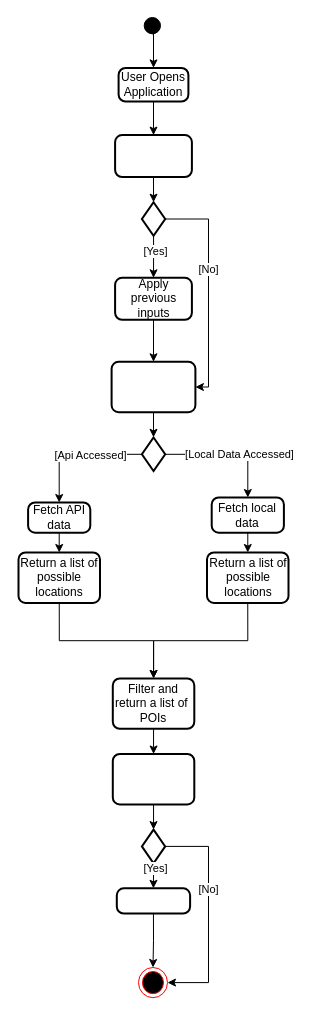
Some shapes in this 311 by 1016 pixel diagram are drawn without their labels. Here are the shapes that lost their labels. From the top down, the centre of each, then its label:
At [153,156]: "Check if user has saved inputs".
At [153,386]: "Wait for user to submit filter parameters".
At [153,778]: "User wants to export list to KML".
At [153,900]: "Export list".
